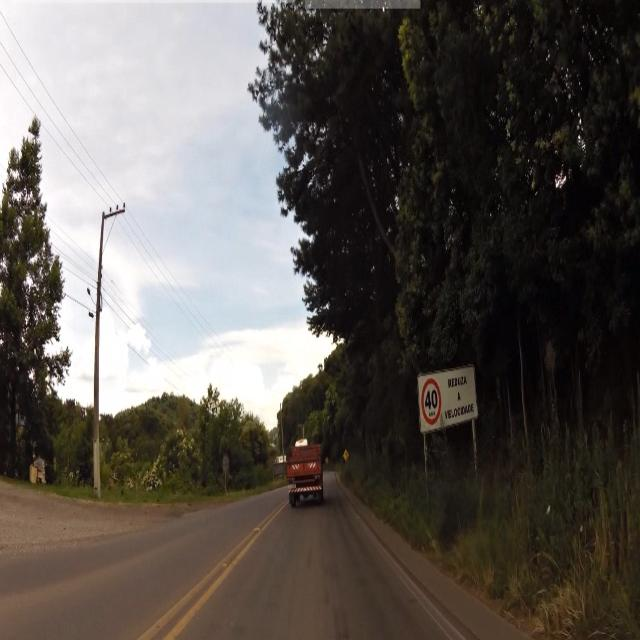R-19: (420, 376, 444, 430)
